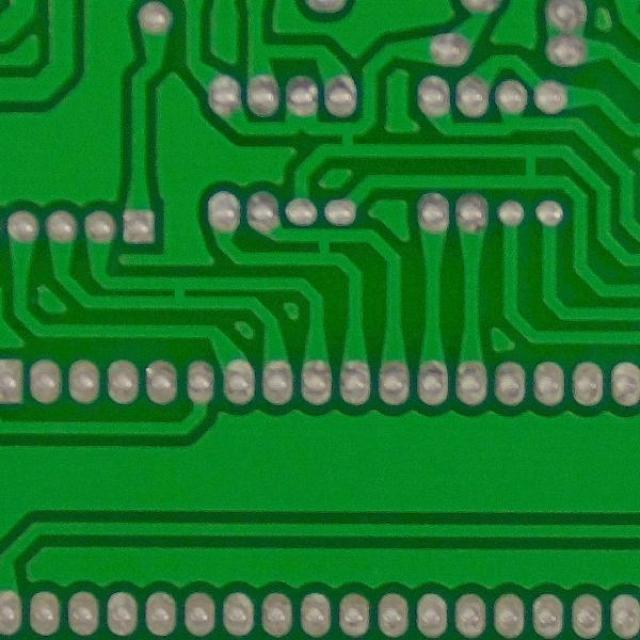Short_Circuit: (508, 138, 552, 194), (304, 224, 344, 273), (158, 271, 200, 317), (327, 116, 368, 162)
